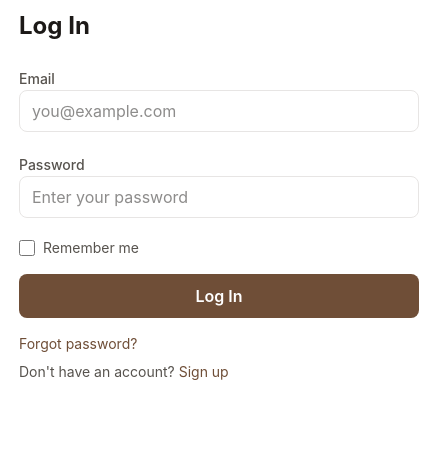
LoginPage › should display structured error message from ApiError on login failure
Check: the button "Log In" is shown, box [19,274,419,318]
Type "bad@test" into the field labelled "Email" at (219, 111), box [19,90,419,132]
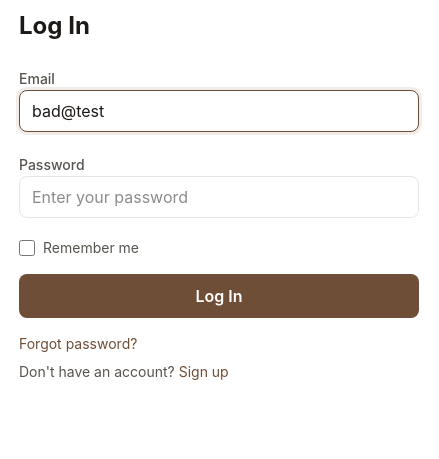
Type "pass" into the password field labelled "Password" at (219, 197), box [19,176,419,218]
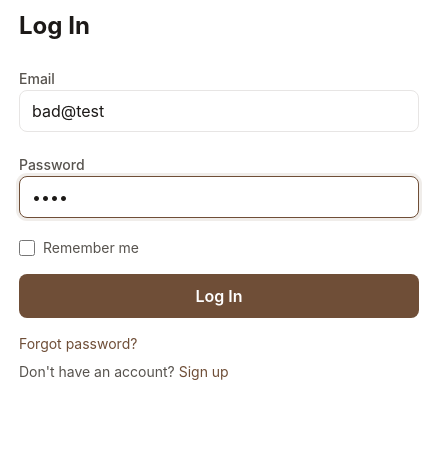
Click the button "Log In" at (219, 296), box [19,274,419,318]
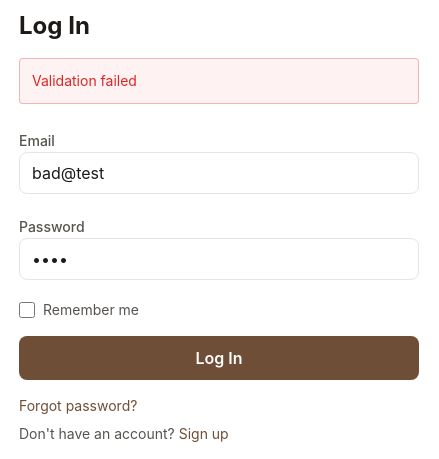
Check: the text "Validation failed" is shown, box [19,58,419,104]
